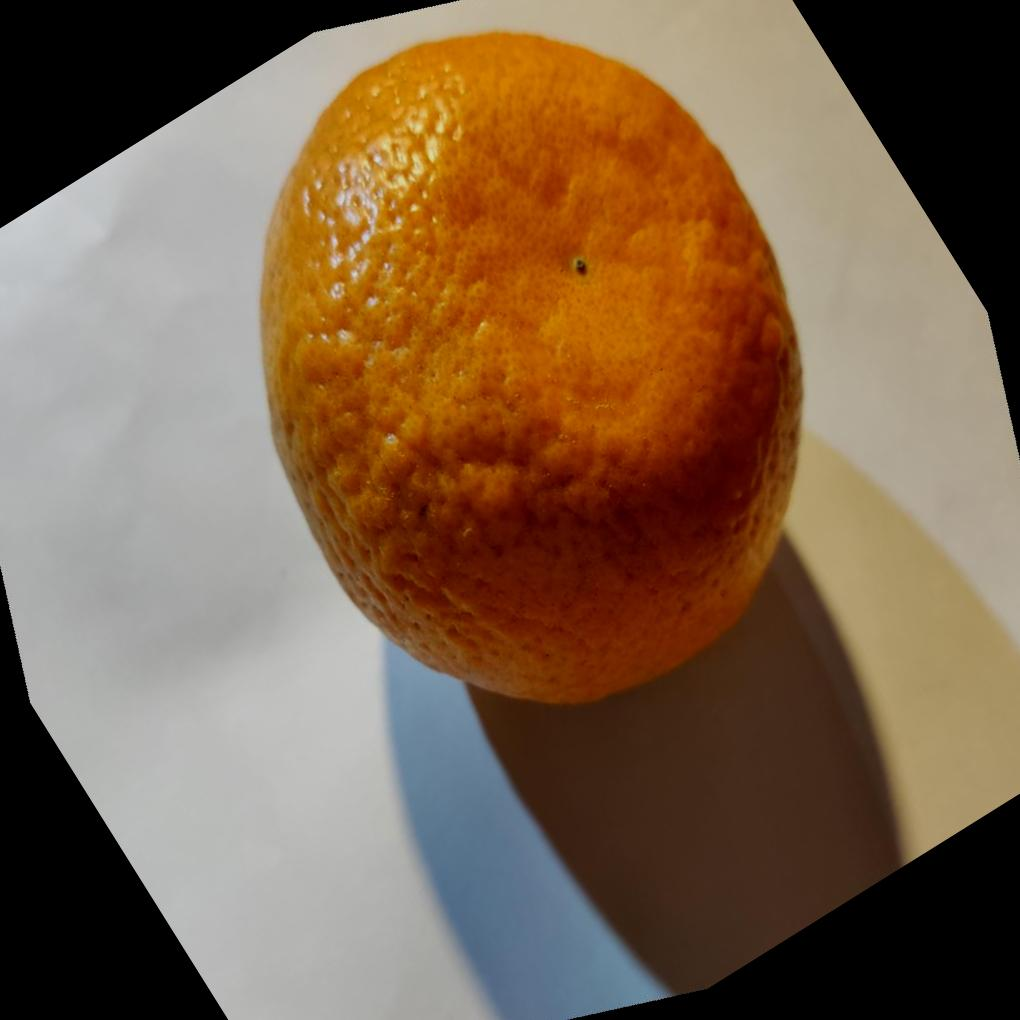FreshGuava: (253, 30, 802, 709)
